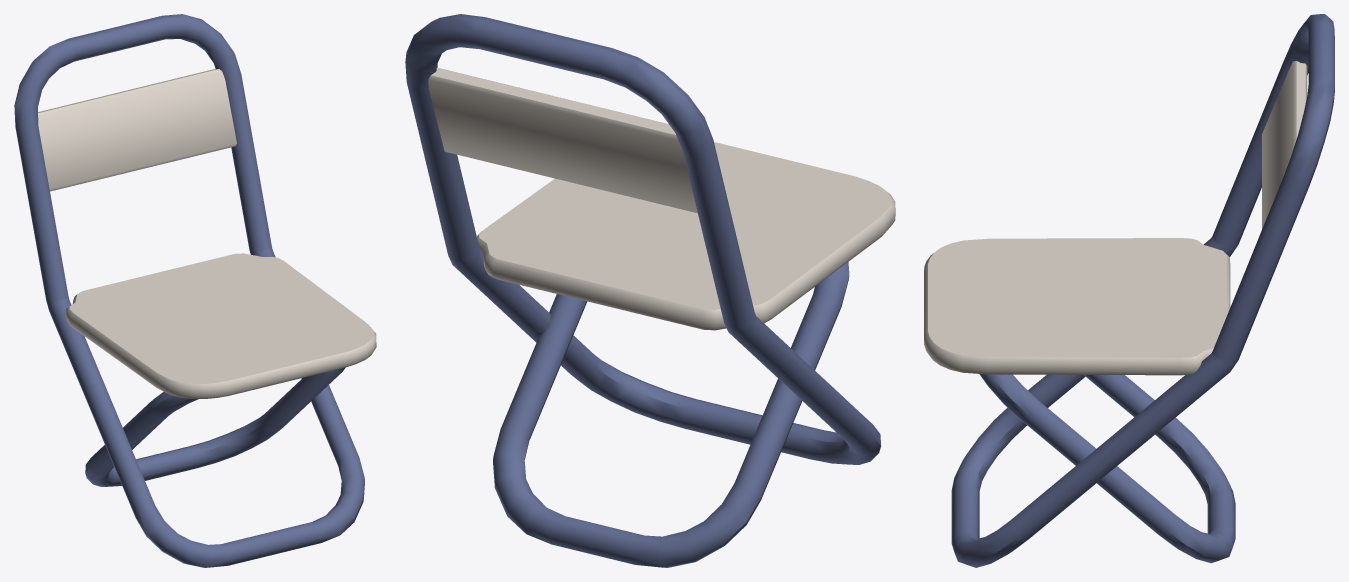
File: BeachChair_01.fbx
3 views of the same model, side by side, from view 1: azimuth 30°, elevation 25°; view 2: azimuth 150°, elevation 25°; view 3: azimuth 270°, elevation 25° (orthographic). The views are drawn at different scales.
Visible parts, largest first — view 1: BeachChair_01; view 2: BeachChair_01; view 3: BeachChair_01.
Part boxes in pixels (<box>): BeachChair_01: <box>14,14,376,567</box>; BeachChair_01: <box>405,14,895,567</box>; BeachChair_01: <box>924,14,1334,567</box>.
Size of the model in its own units: 1.97 by 3.49 by 2.69.
